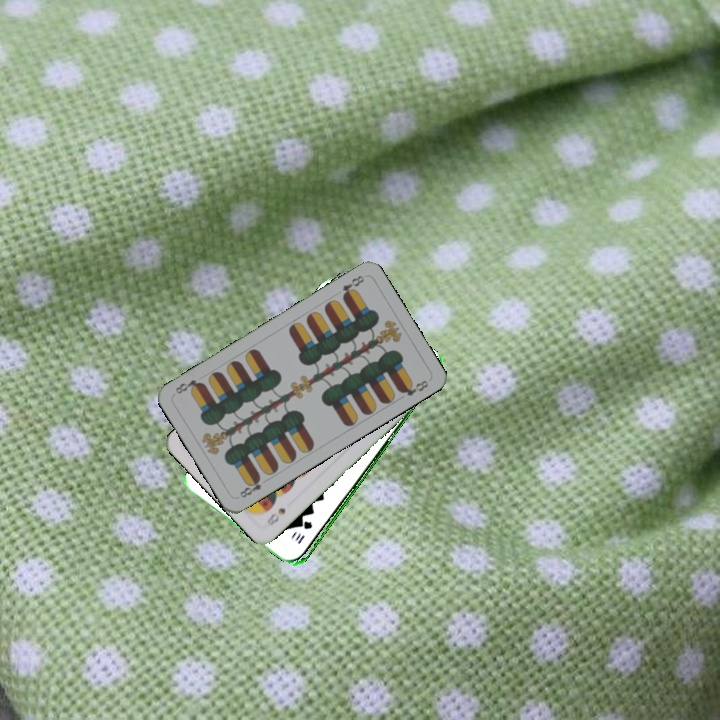E8: (236, 472, 271, 501), (338, 271, 367, 301)
G10: (293, 517, 315, 547)
S8: (263, 504, 288, 529)
